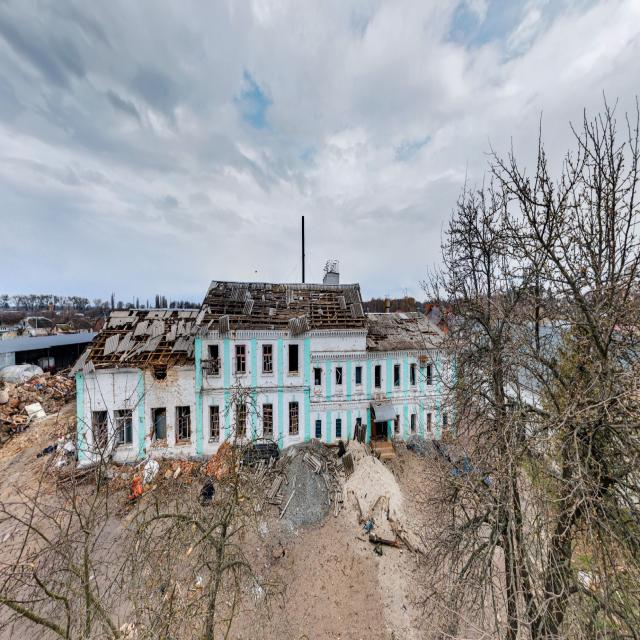broken_window: (113, 408, 133, 446), (175, 404, 191, 443), (150, 406, 166, 443), (92, 409, 107, 447), (208, 403, 219, 442), (207, 343, 219, 376), (261, 344, 273, 374), (234, 344, 246, 374), (262, 402, 272, 437), (288, 401, 298, 435), (288, 344, 298, 374), (314, 367, 322, 389), (374, 363, 381, 388), (355, 364, 362, 385), (335, 366, 342, 385)
building: (71, 270, 466, 470)
